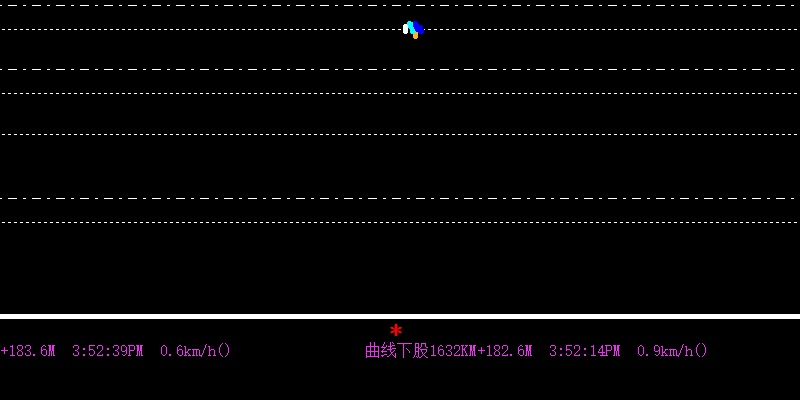face_2: (401, 17, 426, 39)
star: (388, 321, 402, 340)
